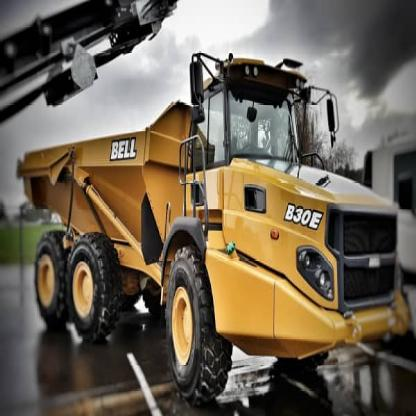dump_truck: (14, 55, 406, 395)
